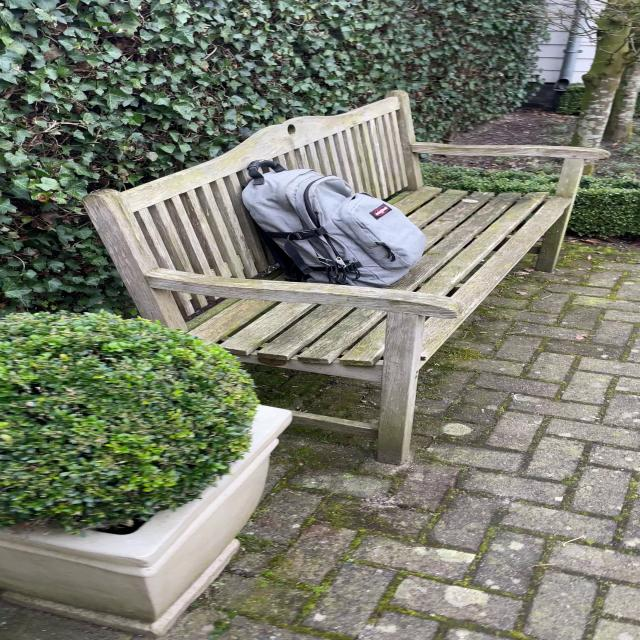backpack: (233, 158, 432, 290)
